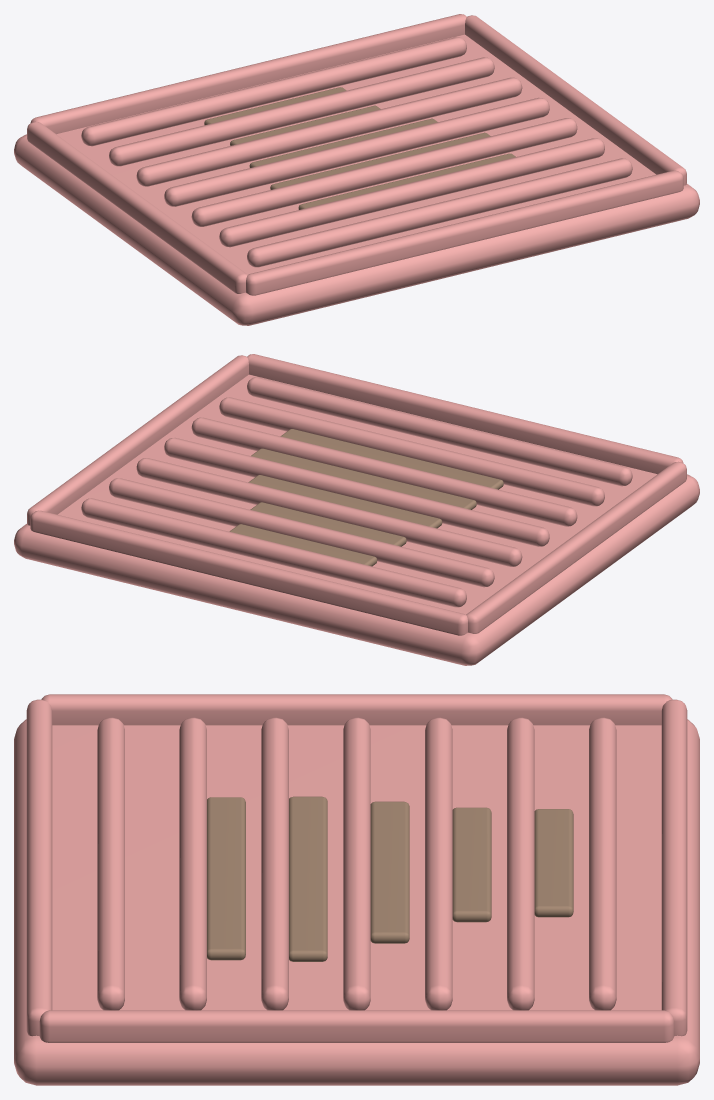
The model's file is lickingPad.glb.
3 views of the same model, one above another, from view 1: azimuth 30°, elevation 25°; view 2: azimuth 150°, elevation 25°; view 3: azimuth 270°, elevation 25° (orthographic). The views are drawn at different scales.
Visible parts, largest first — view 1: Licking pad base, Pad lip.002, Pad lip.003, Soft licking ridge.004, Soft licking ridge.001, Soft licking ridge, Soft licking ridge.002, Soft licking ridge.006, Soft licking ridge.003, Soft licking ridge.005, Pad lip, Pad lip.001 (+5 smaller); view 2: Licking pad base, Pad lip.003, Pad lip.002, Soft licking ridge.006, Soft licking ridge, Soft licking ridge.005, Soft licking ridge.004, Soft licking ridge.003, Soft licking ridge.001, Soft licking ridge.002, Pad lip, Pad lip.001 (+5 smaller); view 3: Licking pad base, Pad lip.001, Pad lip, Pad lip.002, Pad lip.003, Soft licking ridge, Soft licking ridge.006, Soft licking ridge.001, Soft licking ridge.005, Soft licking ridge.002, Soft licking ridge.003, Soft licking ridge.004 (+5 smaller).
Boxes of the visible parts, x1,y1,x2,y2 form: Licking pad base: [14, 34, 699, 325]; Pad lip.002: [246, 170, 683, 295]; Pad lip.003: [30, 14, 466, 134]; Soft licking ridge.004: [136, 77, 522, 186]; Soft licking ridge.001: [219, 138, 604, 247]; Soft licking ridge: [247, 158, 632, 267]; Soft licking ridge.002: [191, 118, 577, 226]; Soft licking ridge.006: [81, 37, 466, 146]; Soft licking ridge.003: [164, 97, 549, 206]; Soft licking ridge.005: [109, 57, 494, 166]; Pad lip: [27, 121, 247, 293]; Pad lip.001: [465, 15, 686, 185]; Licking pad base: [14, 374, 699, 665]; Pad lip.003: [30, 510, 467, 635]; Pad lip.002: [247, 354, 683, 474]; Soft licking ridge.006: [81, 498, 466, 607]; Soft licking ridge: [247, 377, 632, 486]; Soft licking ridge.005: [109, 478, 494, 587]; Soft licking ridge.004: [136, 458, 522, 566]; Soft licking ridge.003: [164, 437, 549, 546]; Soft licking ridge.001: [219, 397, 604, 506]; Soft licking ridge.002: [191, 417, 577, 526]; Pad lip: [466, 461, 686, 633]; Pad lip.001: [27, 355, 248, 525]; Licking pad base: [14, 719, 699, 1085]; Pad lip.001: [39, 1010, 674, 1042]; Pad lip: [41, 694, 672, 725]; Pad lip.002: [26, 699, 52, 1036]; Pad lip.003: [661, 699, 687, 1036]; Soft licking ridge: [97, 717, 124, 1010]; Soft licking ridge.006: [589, 717, 616, 1010]; Soft licking ridge.001: [179, 717, 206, 1010]; Soft licking ridge.005: [507, 717, 534, 1010]; Soft licking ridge.002: [261, 717, 288, 1010]; Soft licking ridge.003: [343, 717, 370, 1010]; Soft licking ridge.004: [425, 717, 452, 1010].
Bounding box in the file's own units: 0.78 × 0.078 × 0.67.
